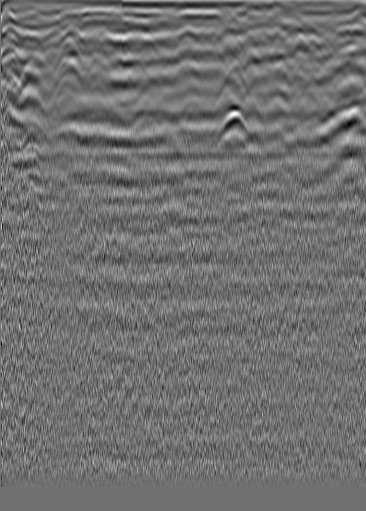가스: (214, 107, 252, 146)
상수: (292, 32, 312, 52)
오수: (19, 30, 39, 50)
우수: (176, 23, 196, 43)
